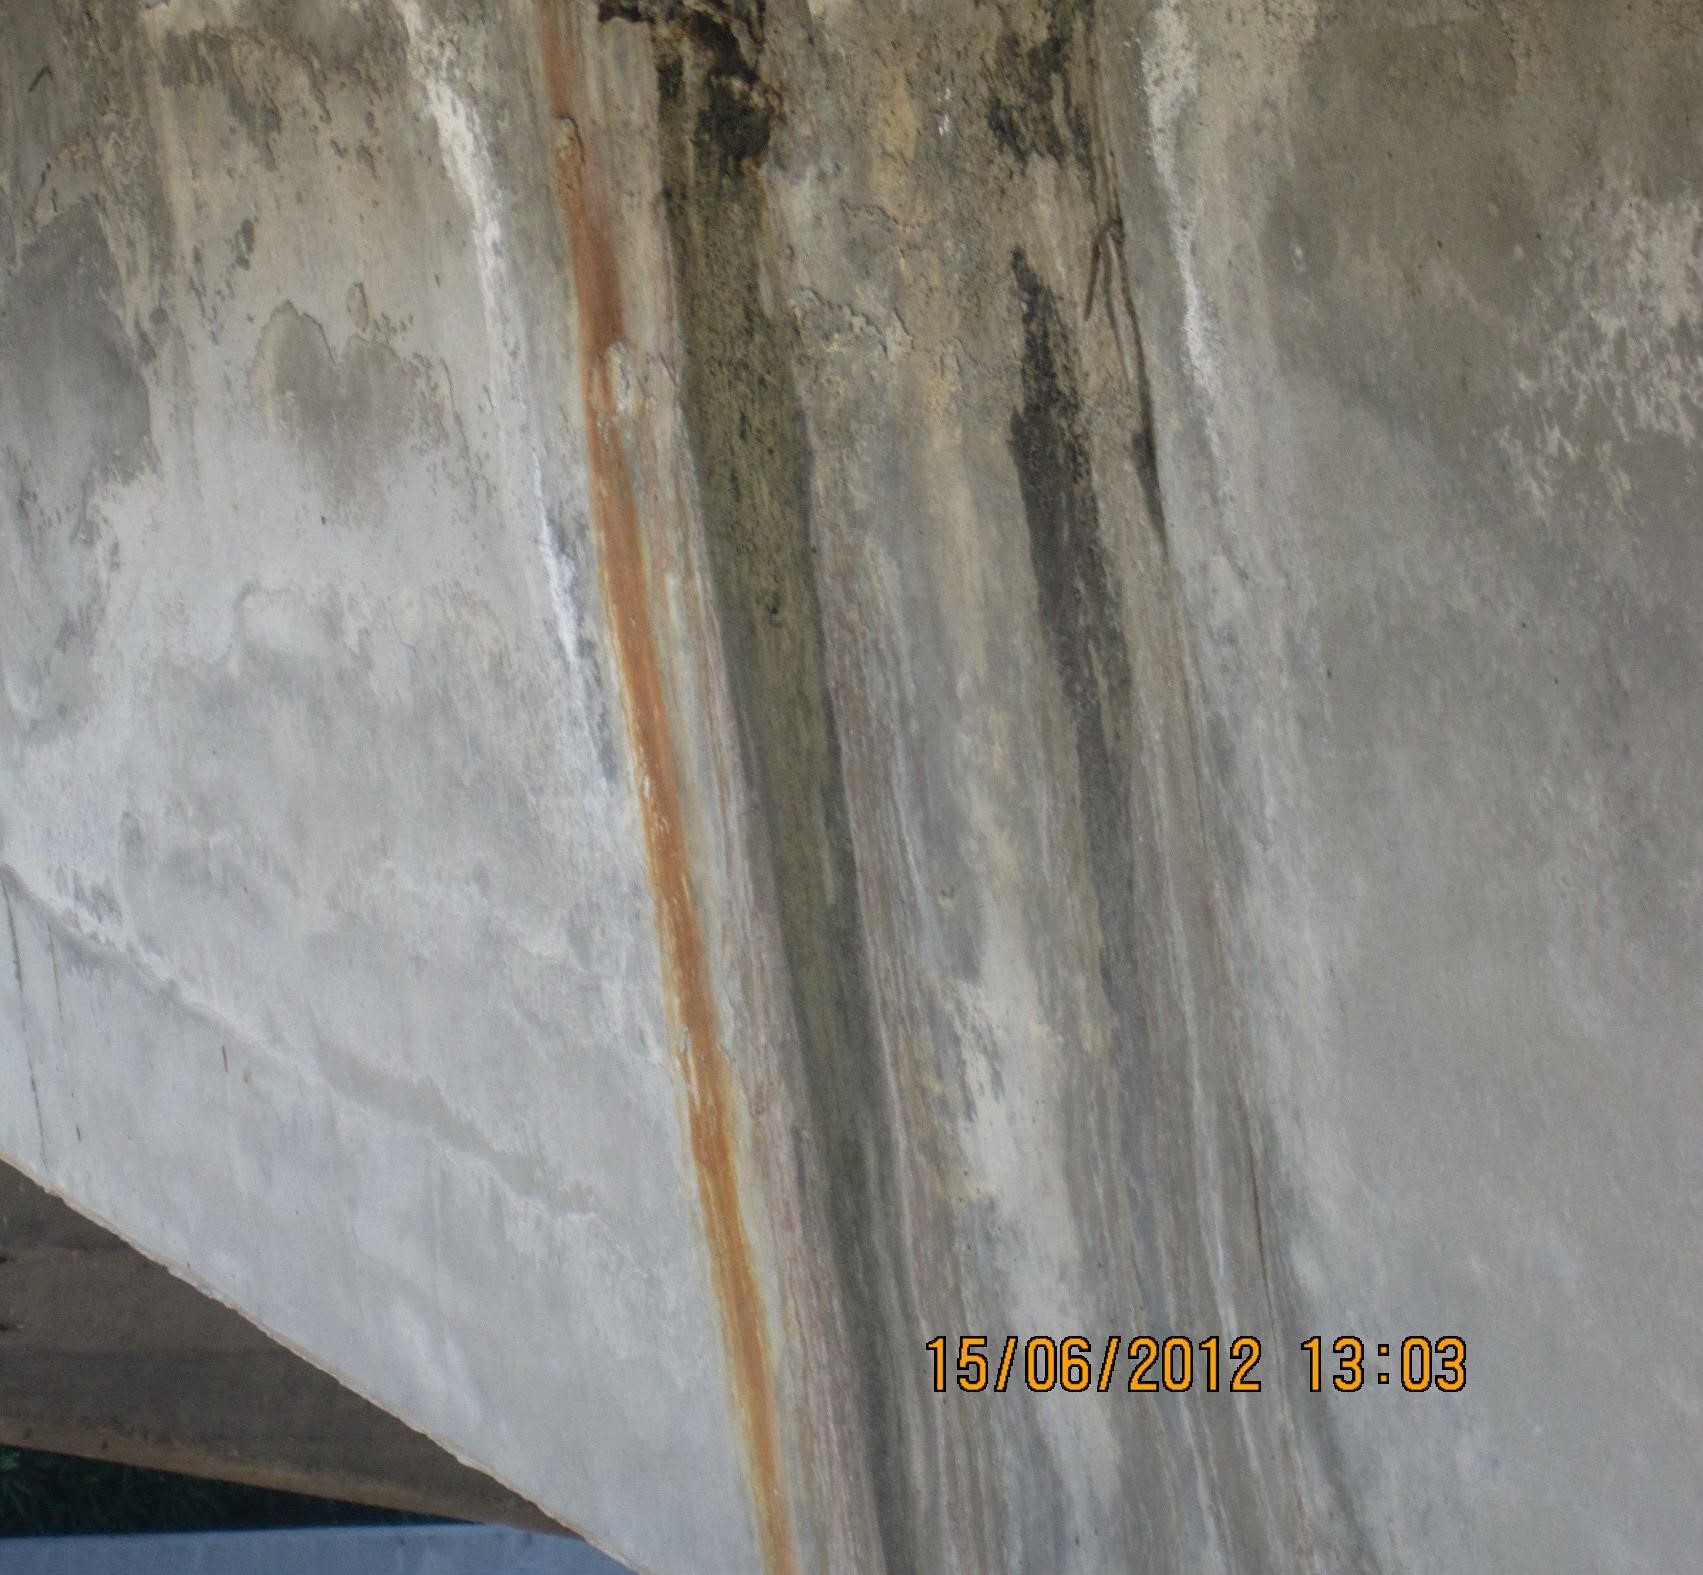Corrosion: (527, 1, 1378, 1575)
